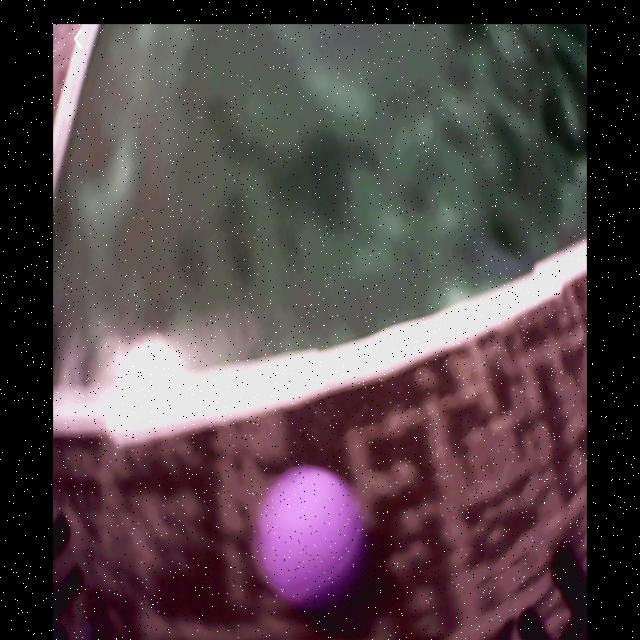ball: (255, 460, 364, 605)
